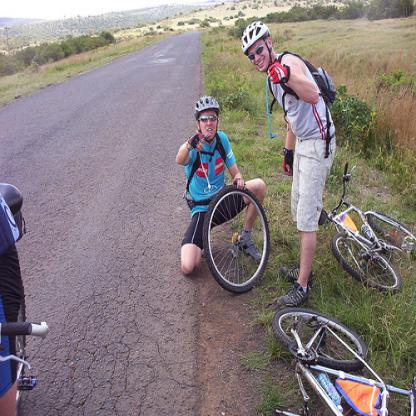bicycle: (272, 304, 415, 415), (319, 161, 415, 290)
